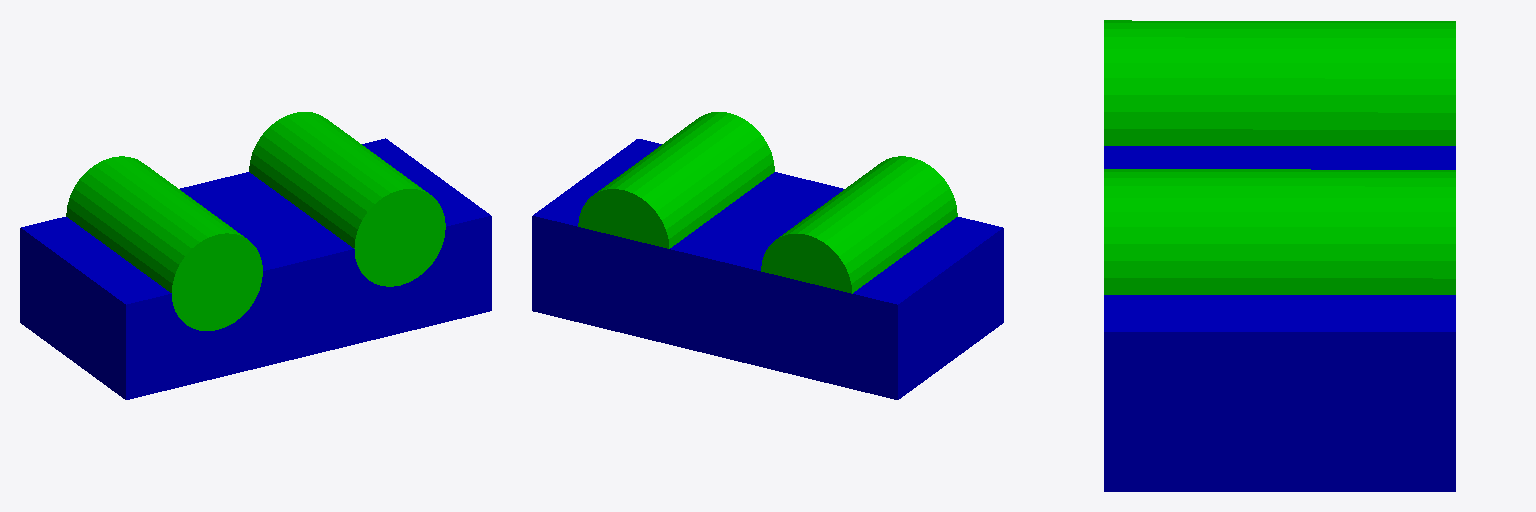
URDF robot description (car):
<?xml version="1.0"?>
<robot name="car">
    <link name="base_link">
        <visual>
            <geometry>
                <box size="4.0 2.0 1.0"/>
            </geometry>
            <material name="blue">
                <color rgba="0 0 .8 1"/>
            </material>
        </visual>
        <inertial>
            <mass value="10.0"/>
            <inertia ixx="10.0" ixy="0.0" ixz="0.0" iyy="10.0" iyz="0.0" izz="10.0"/>
        </inertial>
    </link>

    <link name="wheel_1">
        <visual>
            <geometry>
                <cylinder length="2.0" radius="0.5"/>
            </geometry>
            <material name="green">
                <color rgba="0 .8 0 1"/>
            </material>
            <origin rpy="1.57 0.0 0.0"/>
        </visual>
        <collision>
            <geometry>
                <cylinder radius="0.5" length="2.0"/>
            </geometry>
            <origin rpy="1.57 0.0 0.0"/>
        </collision>
        <inertial>
            <mass value="1.0"/>
            <origin rpy="1.57 0.0 0.0"/>
            <inertia ixx="1.0" ixy="0.0" ixz="0.0" iyy="1.0" iyz="0.0" izz="1.0"/>
        </inertial>
    </link>

    <joint name="base_link_to_wheel_1" type="continuous">
        <parent link="base_link"/>
        <child link="wheel_1"/>
        <axis xyz="0.0 1.0 0.0"/>
        <origin xyz="1.0 0.0 0.5" rpy="0.0 0.0 0.0"/>
    </joint>

    <link name="wheel_2">
        <visual>
            <geometry>
                <cylinder length="2.0" radius="0.5"/>
            </geometry>
            <material name="green">
                <color rgba="0 .8 0 1"/>
            </material>
            <origin rpy="1.57 0.0 0.0"/>
        </visual>
        <collision>
            <geometry>
                <cylinder radius="0.5" length="2.0"/>
            </geometry>
            <origin rpy="1.57 0.0 0.0"/>
        </collision>
        <inertial>
            <mass value="1.0"/>
            <origin rpy="1.57 0.0 0.0"/>
            <inertia ixx="1.0" ixy="0.0" ixz="0.0" iyy="1.0" iyz="0.0" izz="1.0"/>
        </inertial>
    </link>

    <joint name="base_link_to_wheel_2" type="continuous">
        <parent link="base_link"/>
        <child link="wheel_2"/>
        <axis xyz="0.0 1.0 0.0"/>
        <origin xyz="-1.0 0.0 0.5" rpy="0.0 0.0 0.0"/>
    </joint>
</robot>

--- What the picture shows (computed from the rendered views, not written in the file) ---
Views: 3 orthographic renders of the robot side by side, from view 1: azimuth 30°, elevation 25°; view 2: azimuth 150°, elevation 25°; view 3: azimuth 270°, elevation 25°.
Robot: car — 3 links, 2 joints (2 continuous); root link base_link; default pose: all joints at 0.
Visible links, largest first — view 1: base_link, wheel_1, wheel_2; view 2: base_link, wheel_2, wheel_1; view 3: base_link, wheel_1, wheel_2.
Boxes of the visible links, box(x1,y1,x2,y2) form: base_link: box(20, 138, 491, 399); wheel_1: box(249, 112, 445, 286); wheel_2: box(66, 156, 262, 330); base_link: box(532, 139, 1003, 399); wheel_2: box(761, 156, 957, 293); wheel_1: box(578, 112, 774, 248); base_link: box(1104, 146, 1455, 491); wheel_1: box(1104, 169, 1455, 294); wheel_2: box(1104, 20, 1455, 145).
Size in the robot's own frame: 4 by 2 by 1.5 metres.
Geometry: primitives only (box / cylinder / sphere), no mesh files.